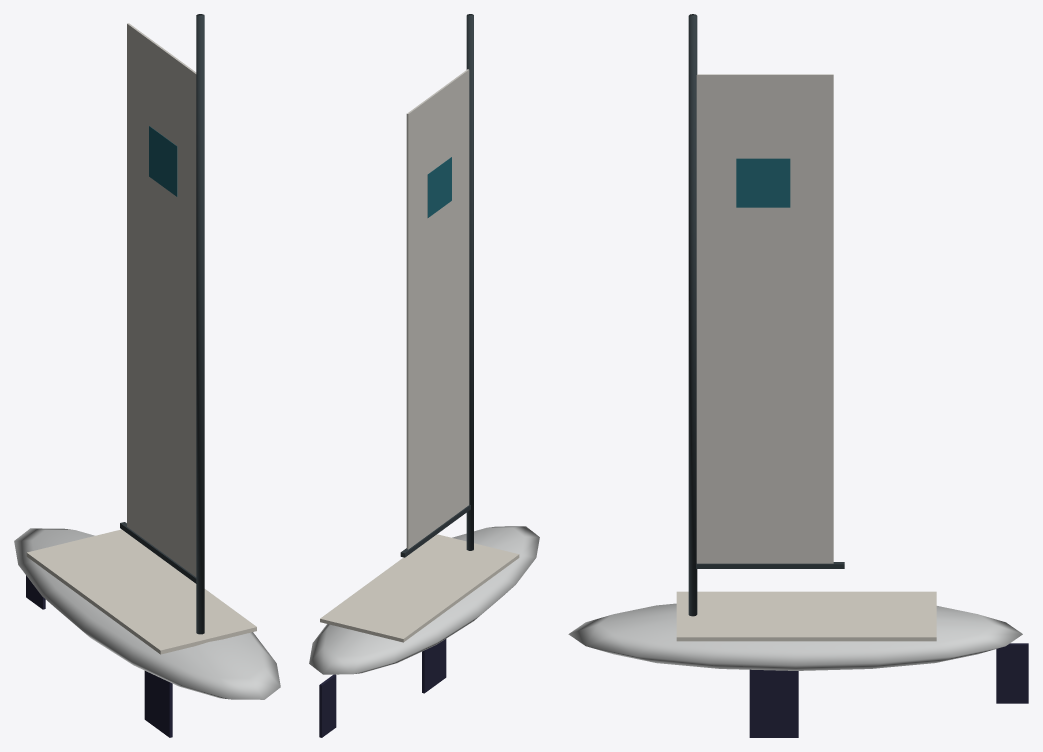
The model's file is laser_dinghy.glb.
The picture shows the model from 3 angles, left to right: view 1: azimuth 30°, elevation 25°; view 2: azimuth 150°, elevation 25°; view 3: azimuth 270°, elevation 25°; orthographic projection. The views are drawn at different scales.
Parts seen in each view (by area): view 1: laser_dinghy; view 2: laser_dinghy; view 3: laser_dinghy.
Boxes of the visible parts, <box> form: laser_dinghy: <box>14,14,280,737</box>; laser_dinghy: <box>309,14,539,737</box>; laser_dinghy: <box>568,14,1028,737</box>.
Size of the model in its own units: 1.36 by 7.35 by 4.25.
